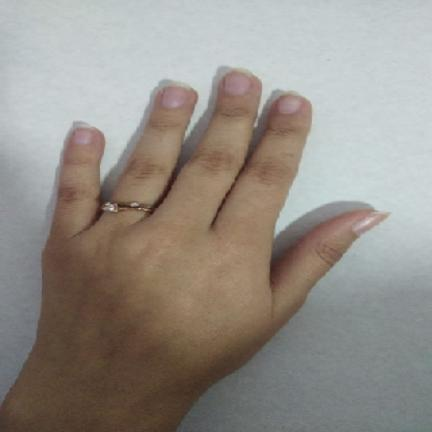Nail: (352, 213, 394, 236), (224, 72, 251, 94), (276, 94, 304, 114), (162, 87, 187, 108), (73, 127, 94, 145)
